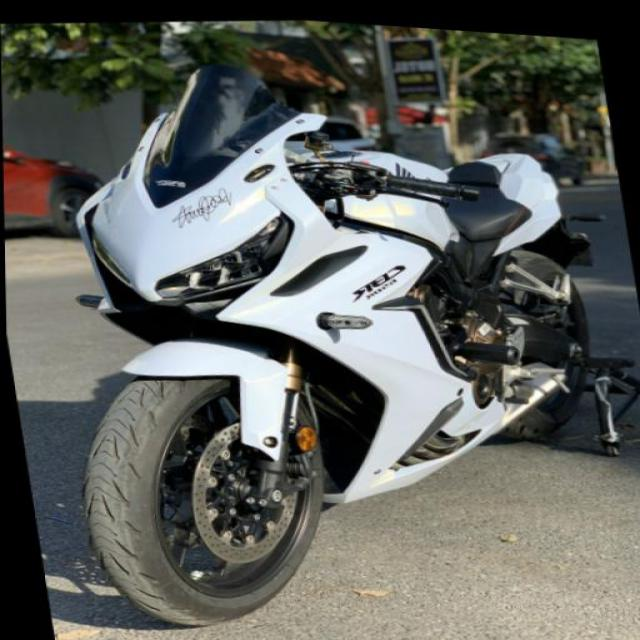CBR650R: (5, 26, 639, 639)
